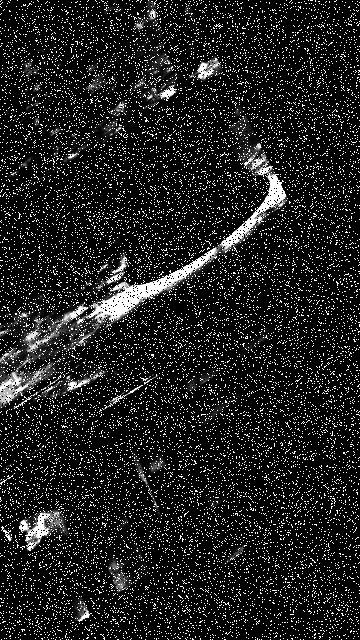pot: (114, 125, 266, 282)
